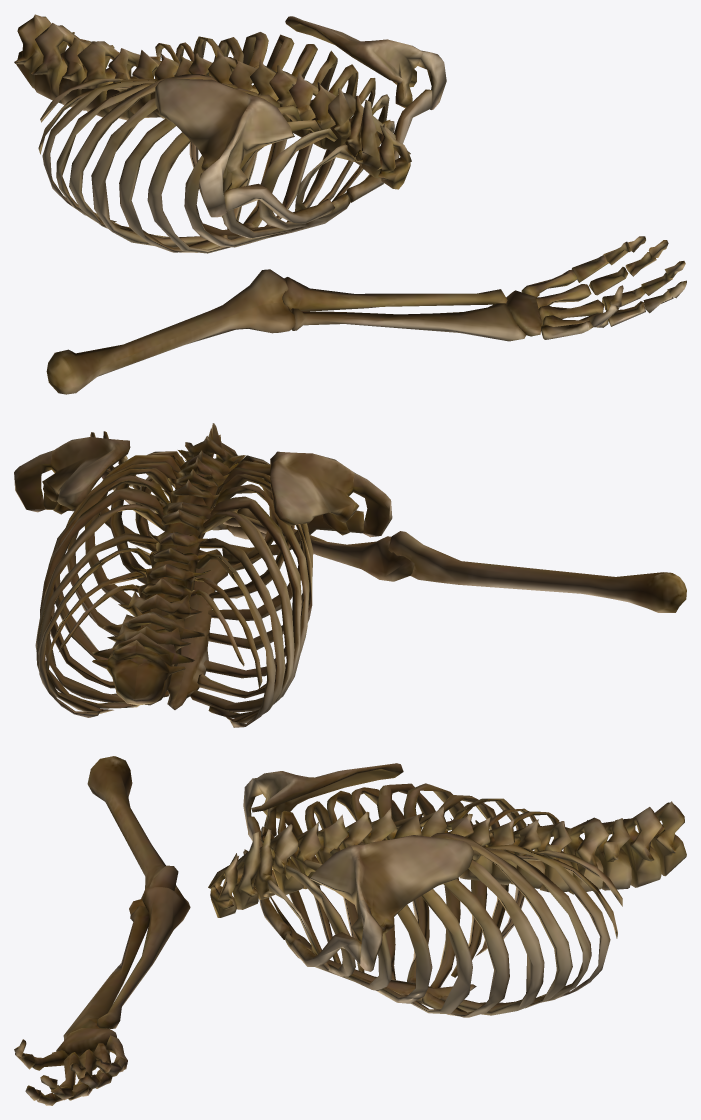
3 views of the same model, one above another, from view 1: azimuth 30°, elevation 25°; view 2: azimuth 150°, elevation 25°; view 3: azimuth 270°, elevation 25° (orthographic).
Parts seen in each view (by area): view 1: skeleton.2; view 2: skeleton.2; view 3: skeleton.2.
Part boxes in pixels (x1=…): skeleton.2: x1=14, y1=14, x2=686, y2=394; skeleton.2: x1=14, y1=423, x2=686, y2=727; skeleton.2: x1=14, y1=756, x2=686, y2=1105.
Bounding box in the file's own units: 1.02 × 0.3293 × 0.9734.
1 material, 1 textured.
